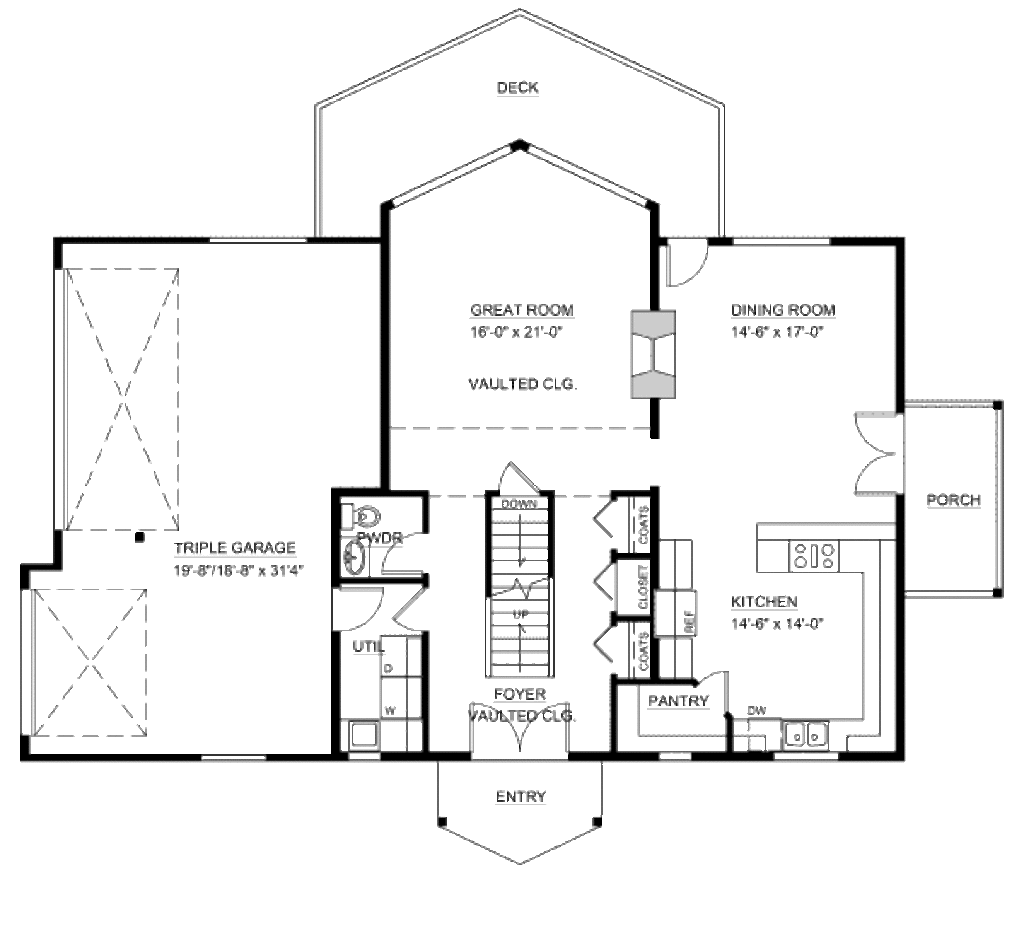door: (457, 694, 579, 760), (856, 407, 903, 503), (320, 583, 390, 637), (386, 584, 450, 637), (663, 237, 720, 289), (694, 664, 736, 716), (383, 527, 432, 570)
large_sink: (337, 491, 392, 534)
small_sink: (326, 530, 373, 584)
stairs: (492, 493, 556, 681)
twin_sink: (777, 711, 830, 757)
window: (730, 226, 842, 253), (202, 227, 313, 250), (200, 750, 264, 767), (656, 749, 690, 769)
